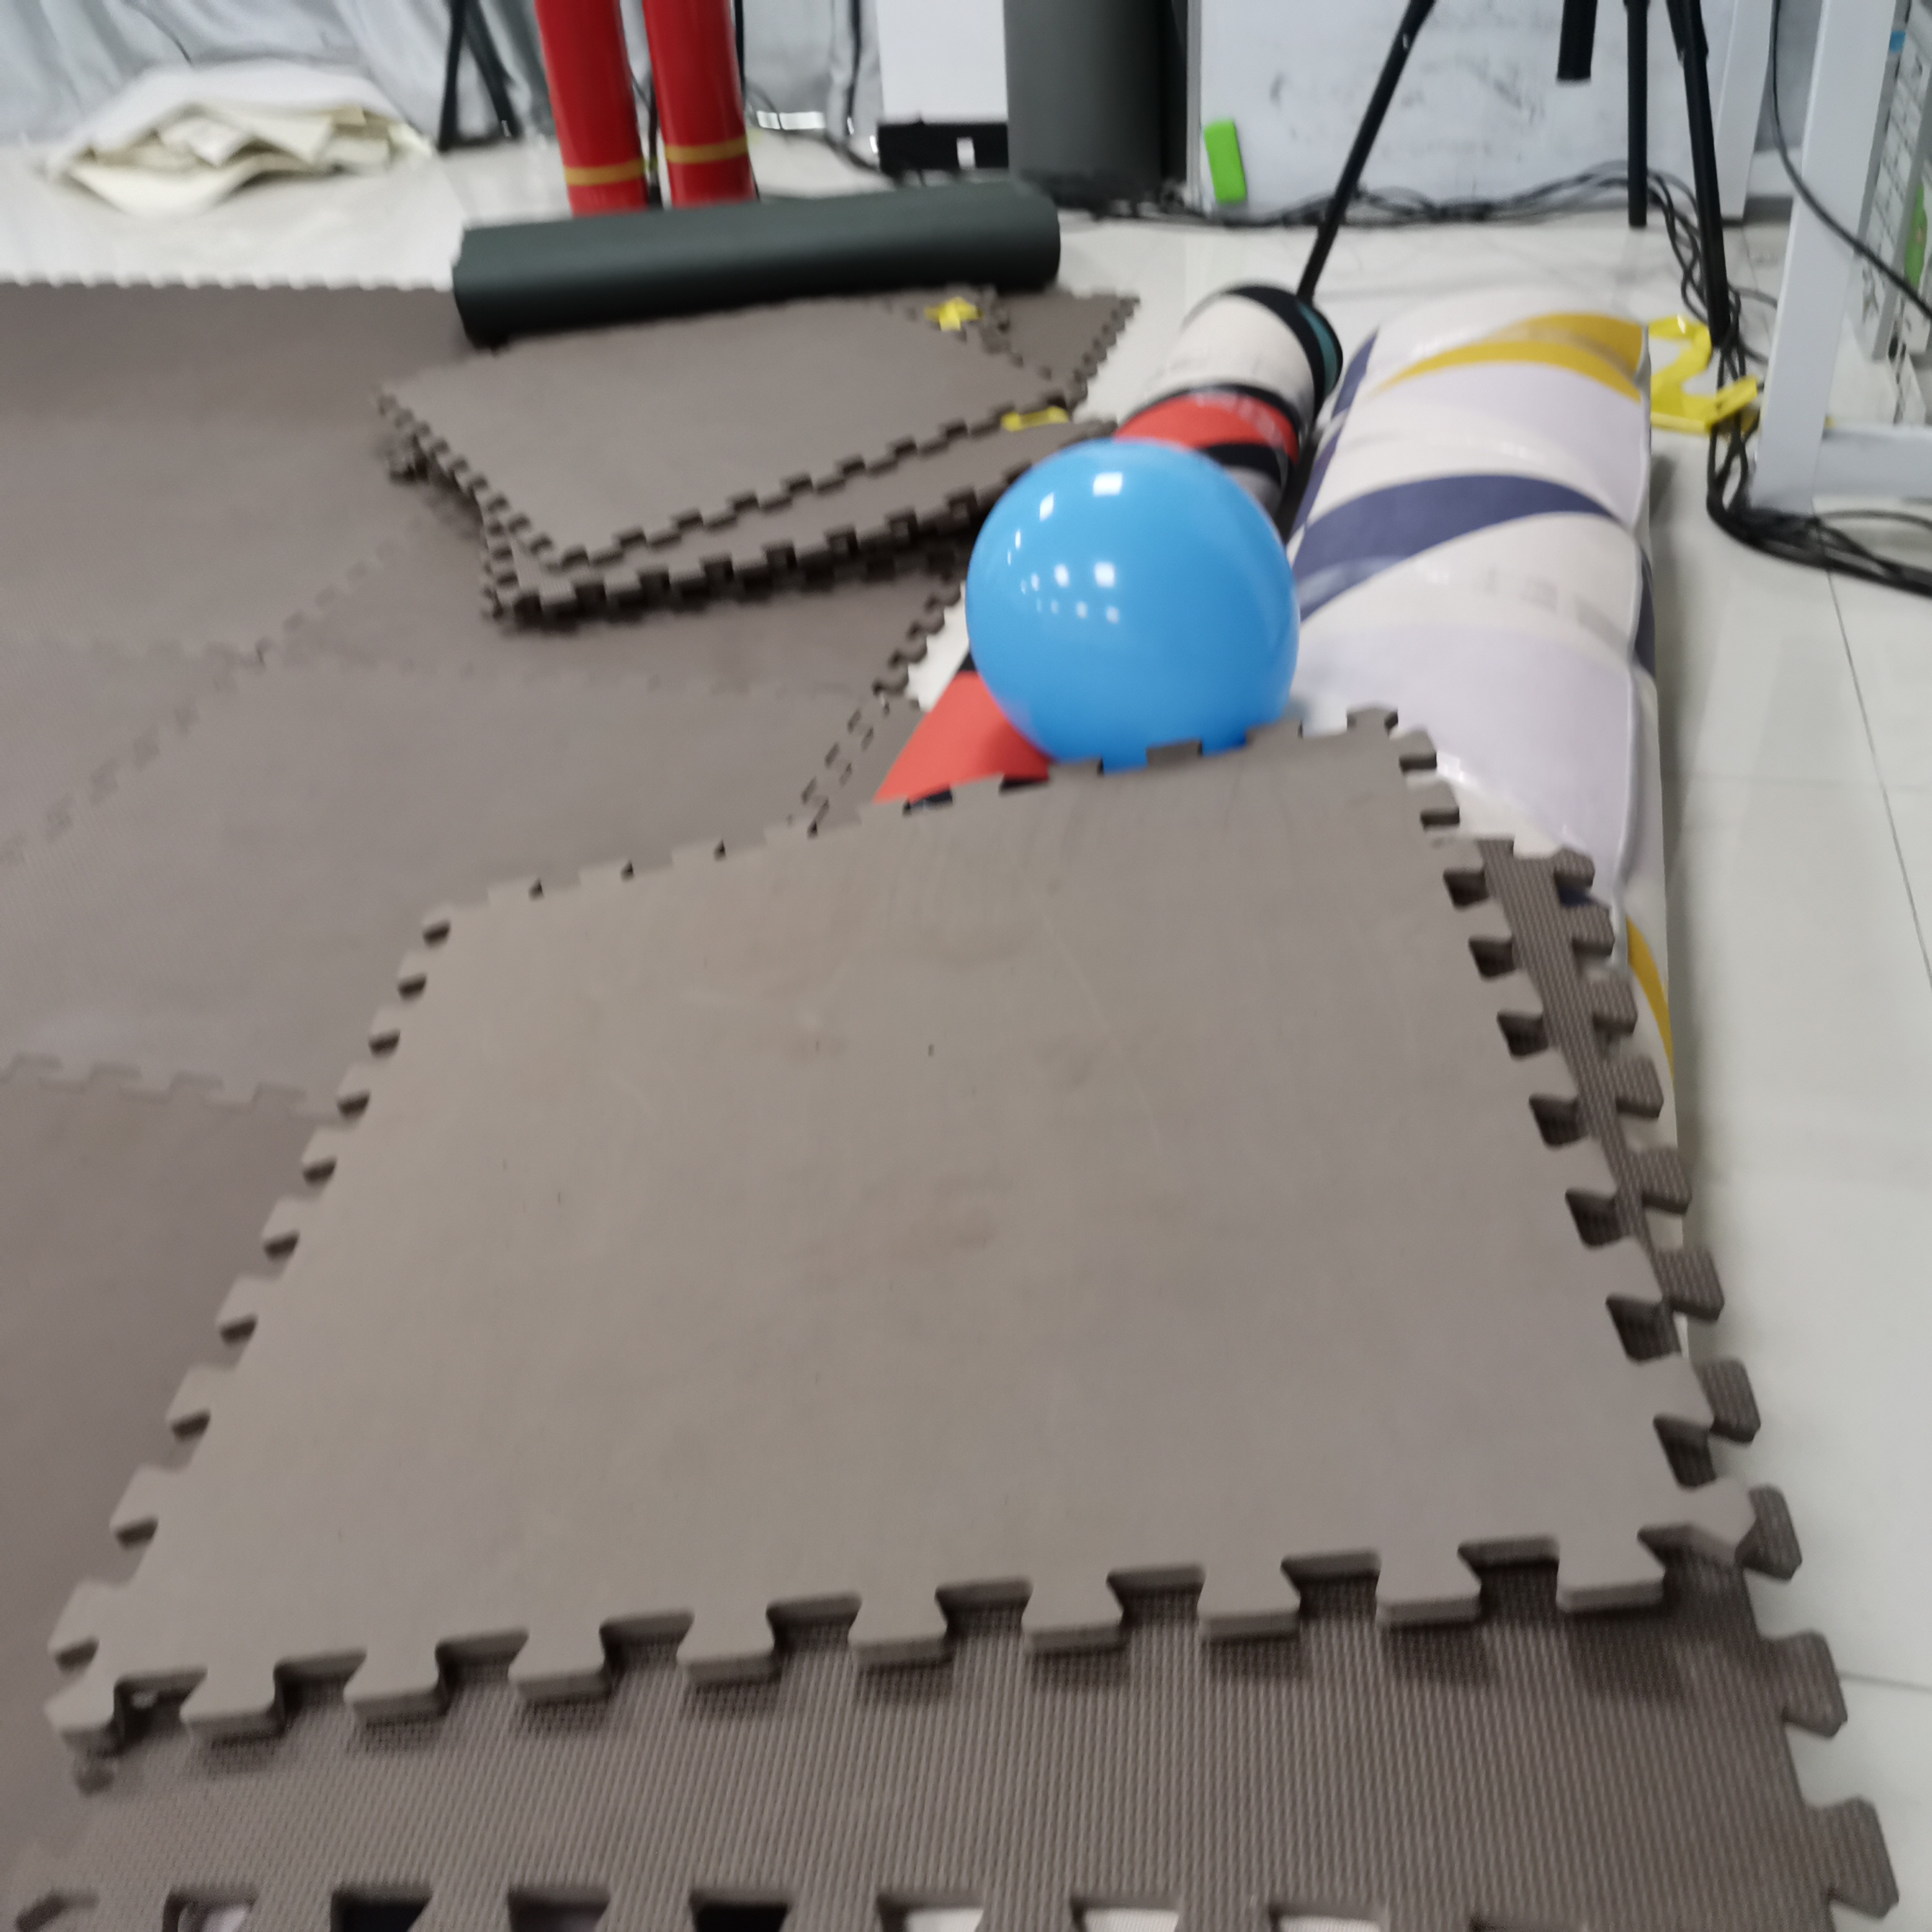balloon: (962, 442, 1304, 761)
